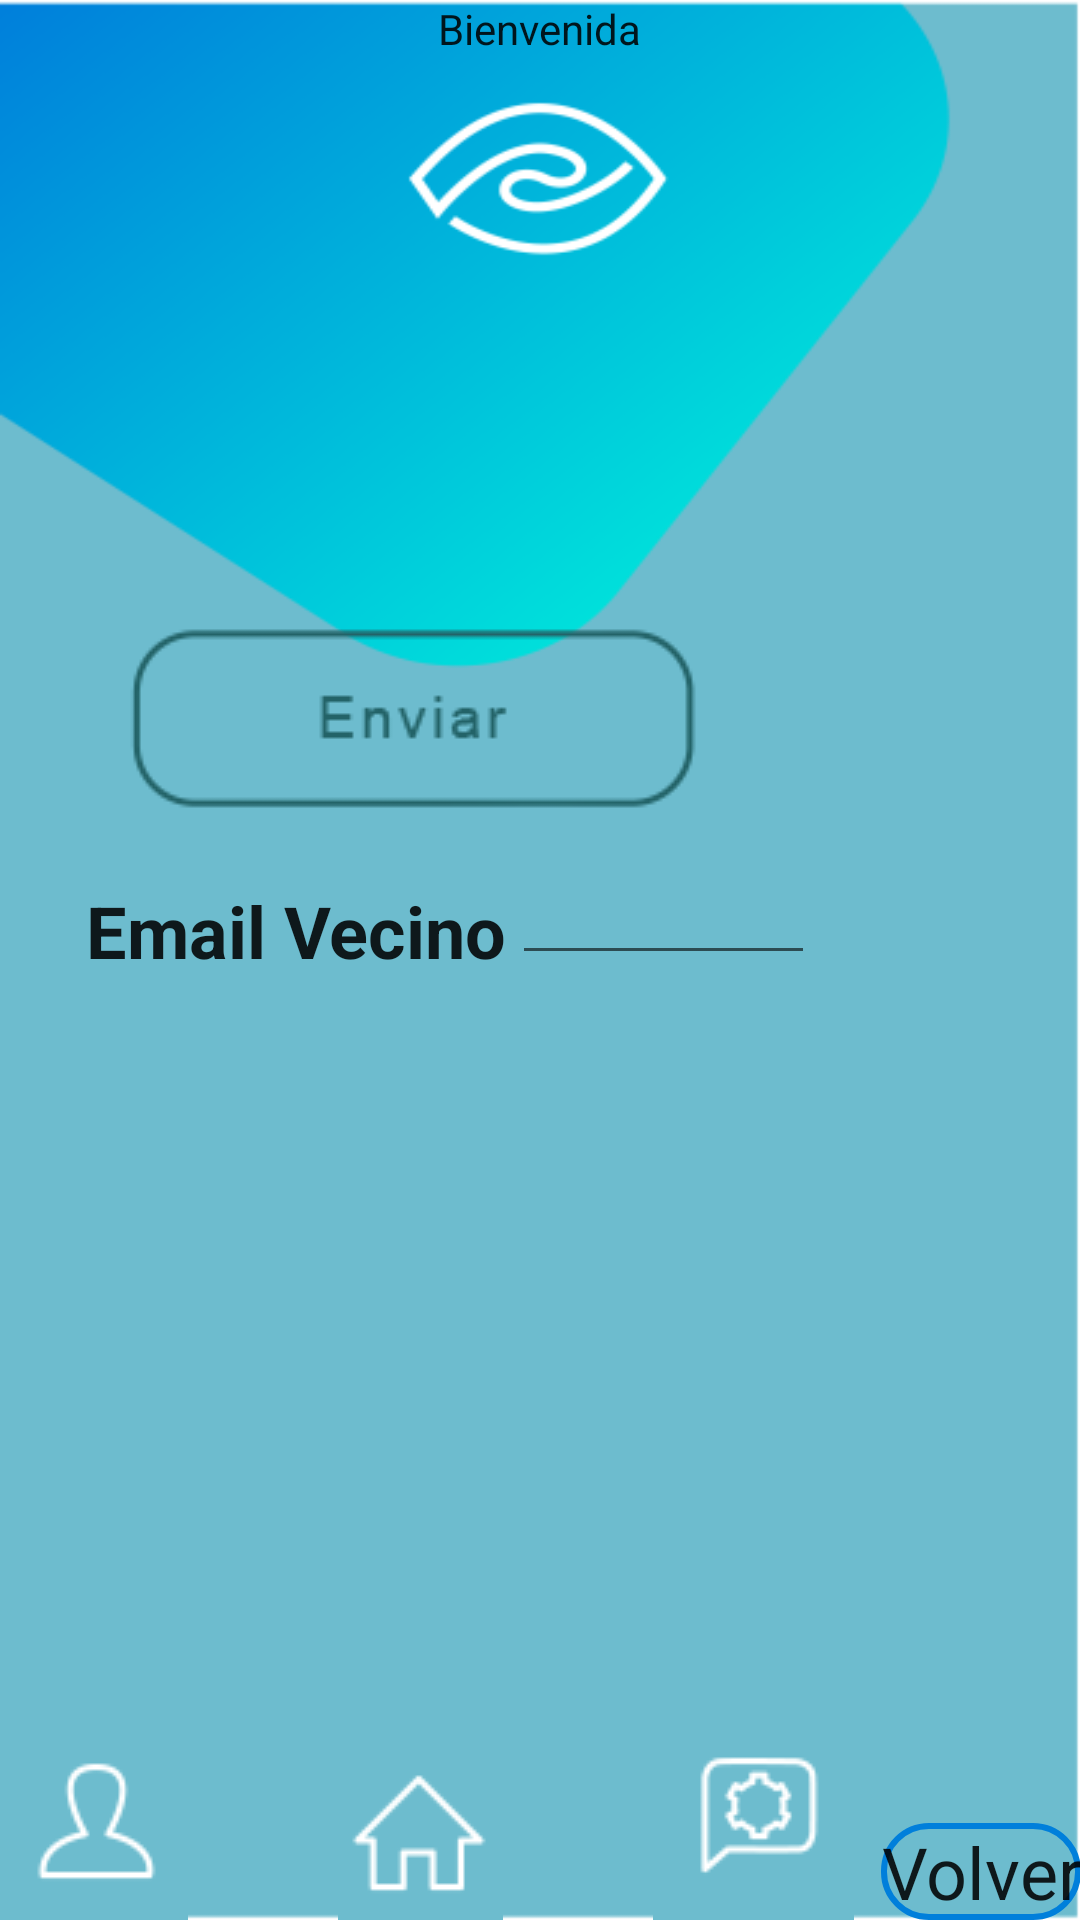

Icon click points for this 1080*1920 phone screenshot, format [x,y]:
menuprincipal inicio: [419,1833]
menuprincipal perfil: [96,1821]
